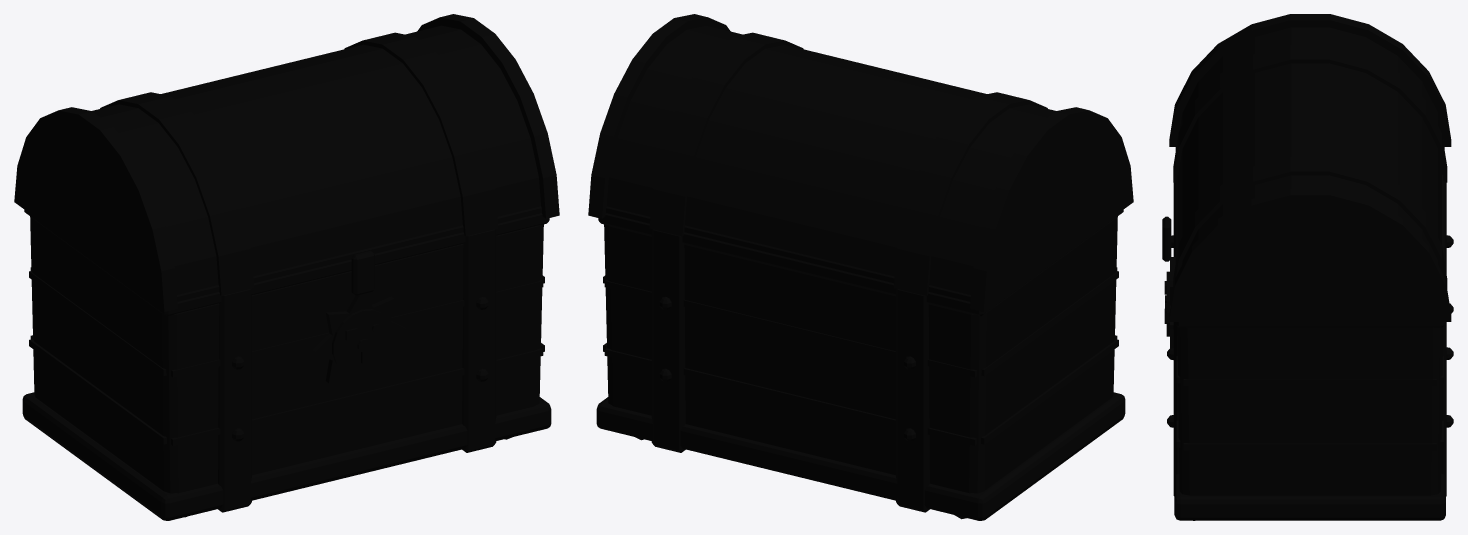
File: tb_chest_small.godot-glb.glb
3 renders of one model, left to right at view 1: azimuth 30°, elevation 25°; view 2: azimuth 150°, elevation 25°; view 3: azimuth 270°, elevation 25°, orthographic. The views are drawn at different scales.
Visible parts, largest first — view 1: chest_body, chest_lid; view 2: chest_body, chest_lid; view 3: chest_lid, chest_body.
Boxes of the visible parts, x1,y1,x2,y2 form: chest_body: [22, 210, 551, 520]; chest_lid: [14, 14, 559, 311]; chest_body: [596, 210, 1125, 520]; chest_lid: [588, 14, 1133, 311]; chest_lid: [1162, 14, 1451, 321]; chest_body: [1164, 145, 1453, 520].
Bounding box in the file's own units: 1.45 × 1.28 × 0.9844.
Materials: 1 (1 with a texture image).
